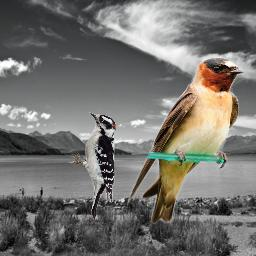Swallow: (127, 57, 244, 224)
Woodpecker: (66, 111, 117, 220)
